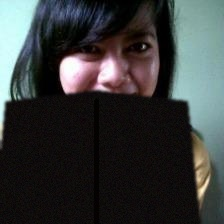Cadar_Niqab: (0, 1, 200, 224)
